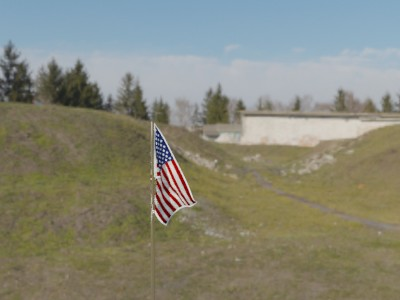America flag: (153, 124, 198, 227)
